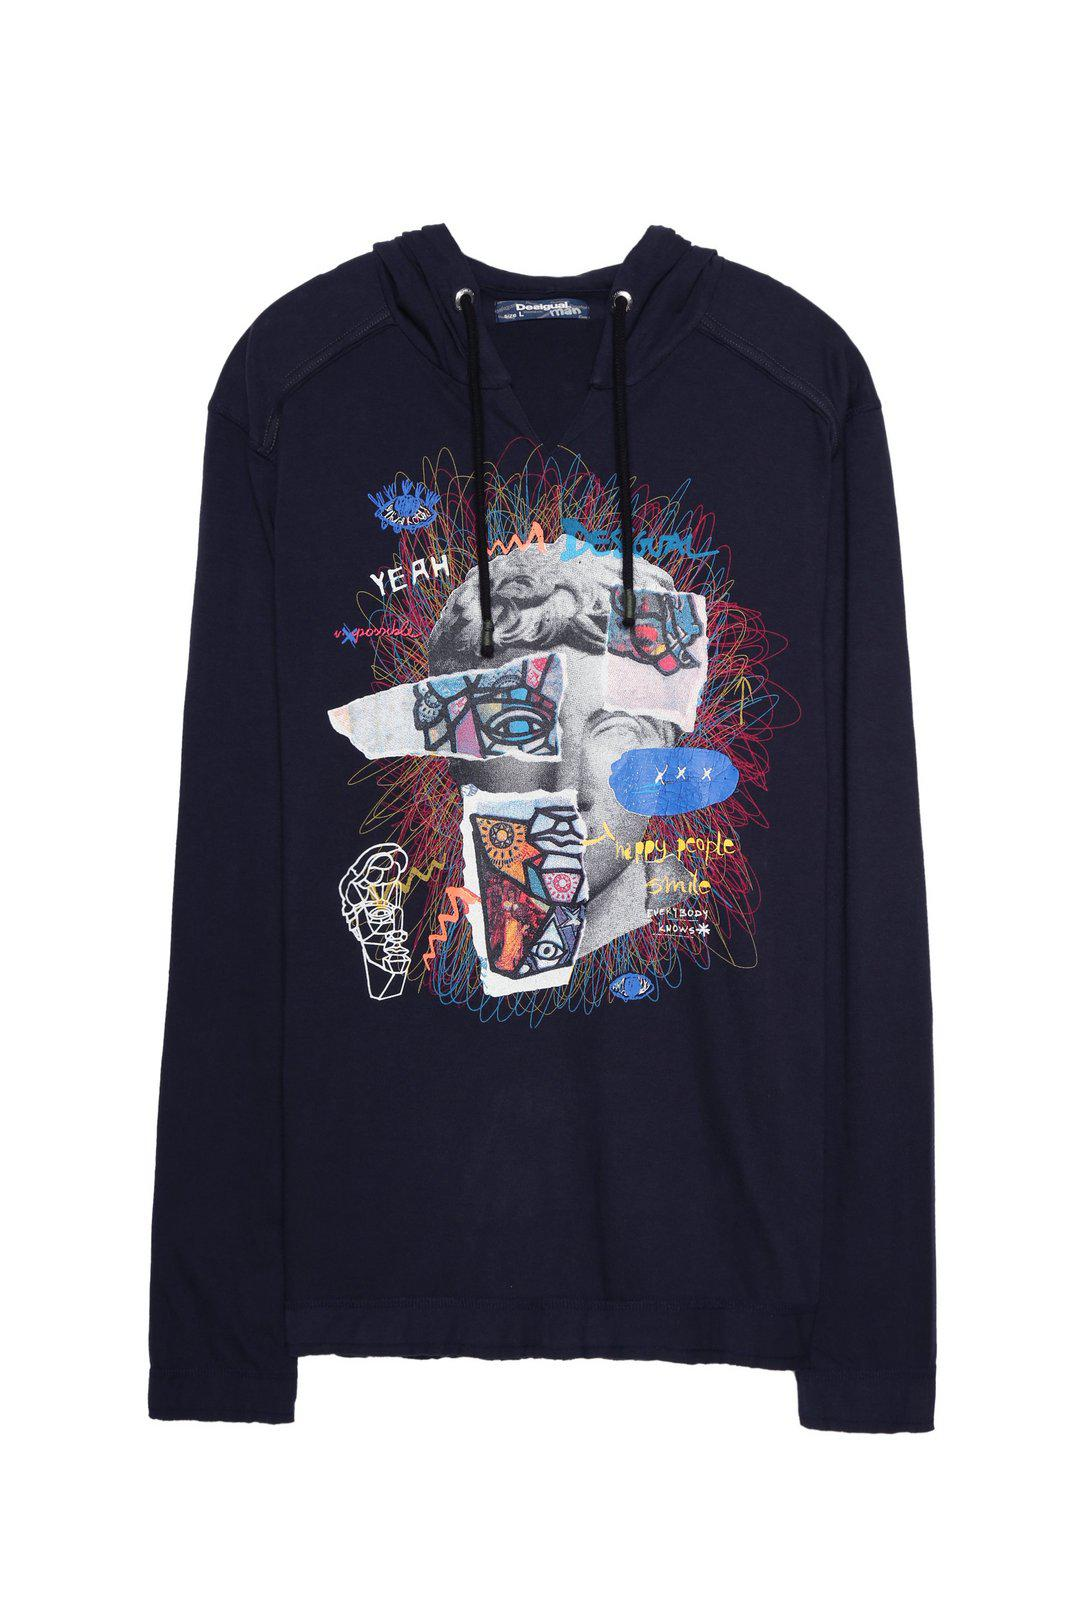teeshirt: (102, 205, 991, 1465)
